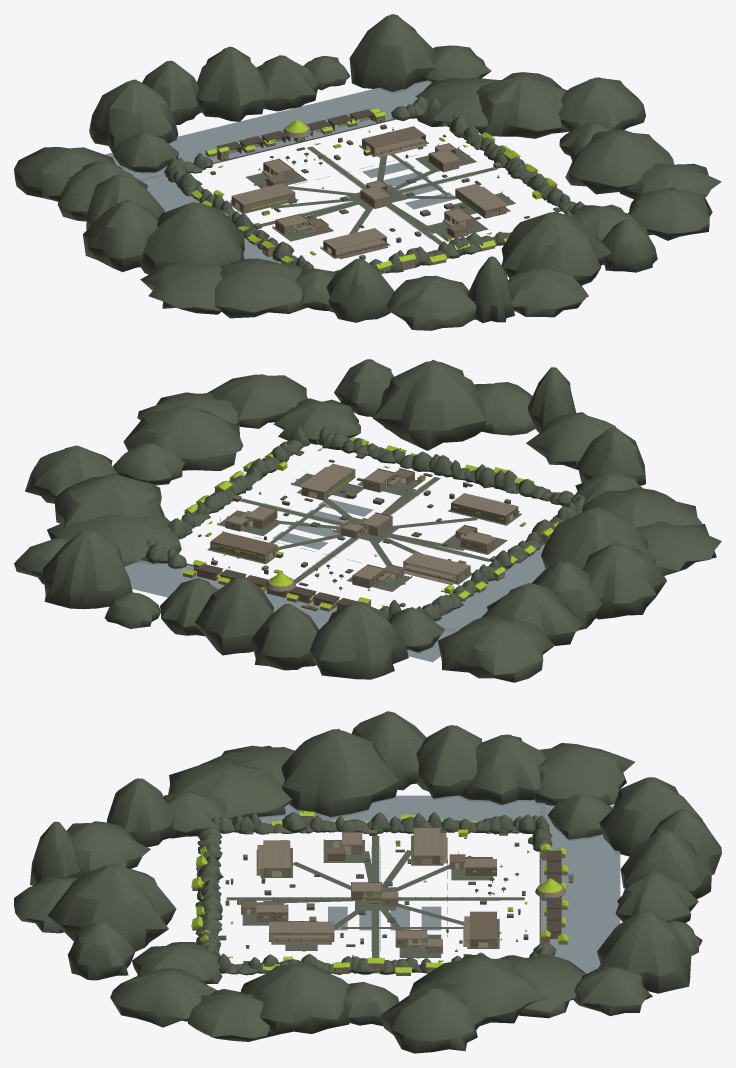
Rendered from kohan-lod0.glb.
3 renders of one model, top to bottom at view 1: azimuth 30°, elevation 25°; view 2: azimuth 150°, elevation 25°; view 3: azimuth 270°, elevation 25°, orthographic. The views are drawn at different scales.
Visible parts, largest first — view 1: HB_kohan_LOD0_terrain, HB_kohan_LOD0_water, HB_kohan_LOD0_wall, HB_kohan_LOD0_road, HB_kohan_LOD0_wall_alt, HB_kohan_LOD0_accent, HB_kohan_LOD0_trim, HB_kohan_LOD0_obstacle, HB_kohan_LOD0_glass, HB_kohan_LOD0_natural; view 2: HB_kohan_LOD0_terrain, HB_kohan_LOD0_wall, HB_kohan_LOD0_water, HB_kohan_LOD0_road, HB_kohan_LOD0_wall_alt, HB_kohan_LOD0_accent, HB_kohan_LOD0_trim, HB_kohan_LOD0_obstacle, HB_kohan_LOD0_glass, HB_kohan_LOD0_natural; view 3: HB_kohan_LOD0_terrain, HB_kohan_LOD0_water, HB_kohan_LOD0_wall, HB_kohan_LOD0_road, HB_kohan_LOD0_wall_alt, HB_kohan_LOD0_accent, HB_kohan_LOD0_trim, HB_kohan_LOD0_obstacle, HB_kohan_LOD0_natural, HB_kohan_LOD0_glass.
Boxes of the visible parts, box(x1,y1,x2,y2) form: HB_kohan_LOD0_terrain: box(14, 14, 721, 330); HB_kohan_LOD0_water: box(105, 80, 456, 263); HB_kohan_LOD0_wall: box(192, 112, 556, 273); HB_kohan_LOD0_road: box(219, 131, 515, 258); HB_kohan_LOD0_wall_alt: box(195, 108, 556, 274); HB_kohan_LOD0_accent: box(192, 108, 564, 268); HB_kohan_LOD0_trim: box(195, 109, 508, 263); HB_kohan_LOD0_obstacle: box(198, 115, 561, 259); HB_kohan_LOD0_glass: box(193, 116, 505, 269); HB_kohan_LOD0_natural: box(199, 116, 574, 268); HB_kohan_LOD0_terrain: box(14, 359, 721, 682); HB_kohan_LOD0_wall: box(183, 443, 551, 610); HB_kohan_LOD0_water: box(124, 499, 545, 662); HB_kohan_LOD0_road: box(209, 450, 521, 606); HB_kohan_LOD0_wall_alt: box(183, 439, 555, 611); HB_kohan_LOD0_accent: box(180, 437, 558, 608); HB_kohan_LOD0_trim: box(184, 448, 550, 611); HB_kohan_LOD0_obstacle: box(198, 450, 556, 607); HB_kohan_LOD0_glass: box(186, 444, 550, 599); HB_kohan_LOD0_natural: box(145, 436, 567, 590); HB_kohan_LOD0_terrain: box(14, 711, 721, 1053); HB_kohan_LOD0_water: box(259, 795, 620, 973); HB_kohan_LOD0_wall: box(192, 816, 572, 975); HB_kohan_LOD0_road: box(226, 836, 527, 962); HB_kohan_LOD0_wall_alt: box(192, 811, 573, 975); HB_kohan_LOD0_accent: box(191, 811, 568, 973); HB_kohan_LOD0_trim: box(223, 833, 573, 975); HB_kohan_LOD0_obstacle: box(219, 831, 528, 963); HB_kohan_LOD0_natural: box(216, 823, 535, 964); HB_kohan_LOD0_glass: box(256, 834, 565, 974).
Size of the model in its own units: 641 by 62.58 by 631.
11 materials, 8 textured.
